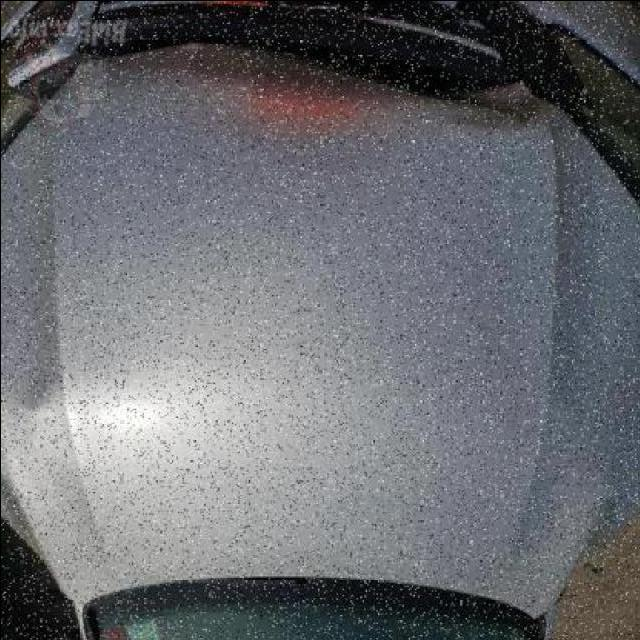bonnet-dent: (127, 3, 638, 491), (1, 1, 314, 600)
